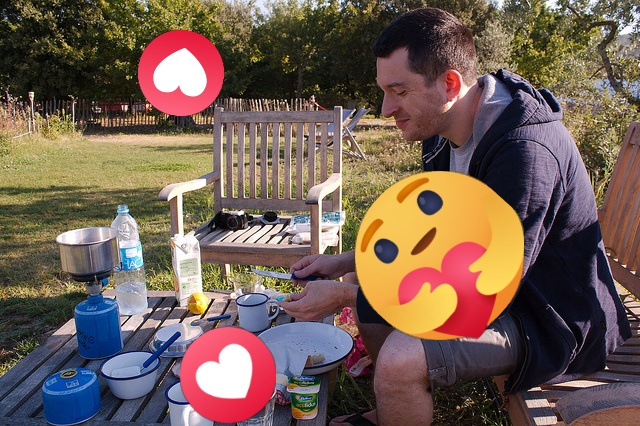care: (355, 171, 524, 340)
love: (180, 327, 276, 423), (138, 30, 224, 116)
